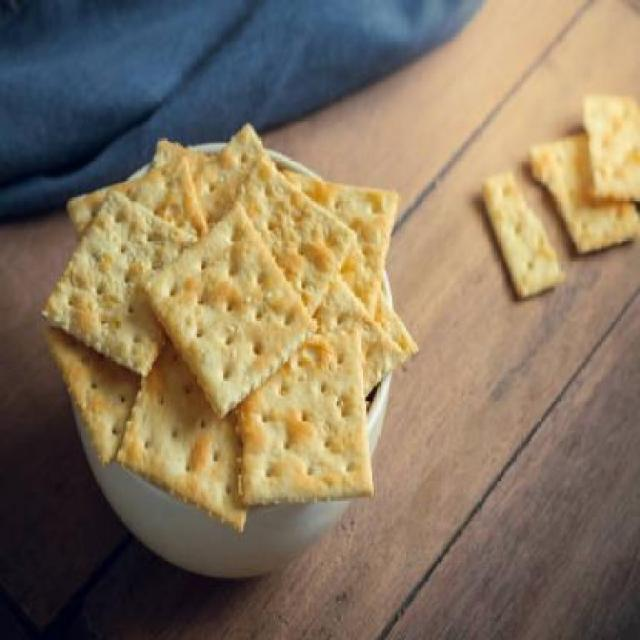Cracker packaged: (146, 202, 309, 404), (41, 195, 208, 383)
